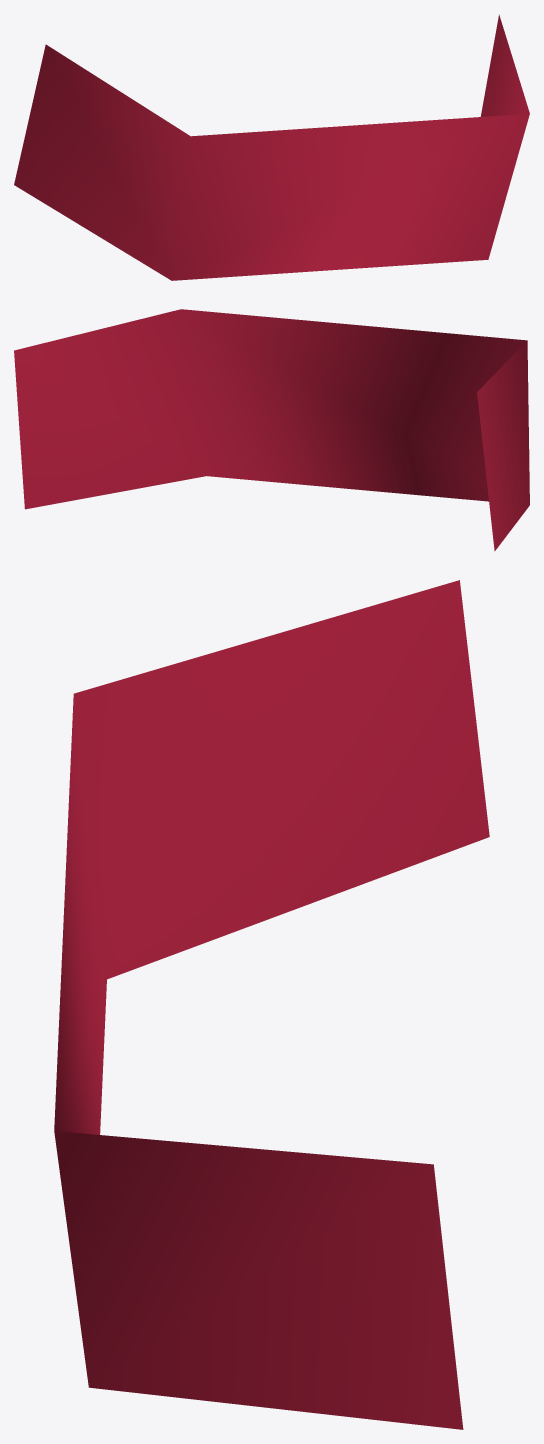
3 views of the same model, one above another, from view 1: azimuth 30°, elevation 25°; view 2: azimuth 150°, elevation 25°; view 3: azimuth 270°, elevation 25° (orthographic). The views are drawn at different scales.
Parts seen in each view (by area): view 1: ef_454; view 2: ef_454; view 3: ef_454.
Part boxes in pixels (bbox=[...]): ef_454: bbox=[14, 14, 529, 280]; ef_454: bbox=[14, 309, 529, 551]; ef_454: bbox=[54, 580, 489, 1429].
Size of the model in its own units: 0.8682 by 0.4104 by 0.3475.
1 material, 1 textured.
